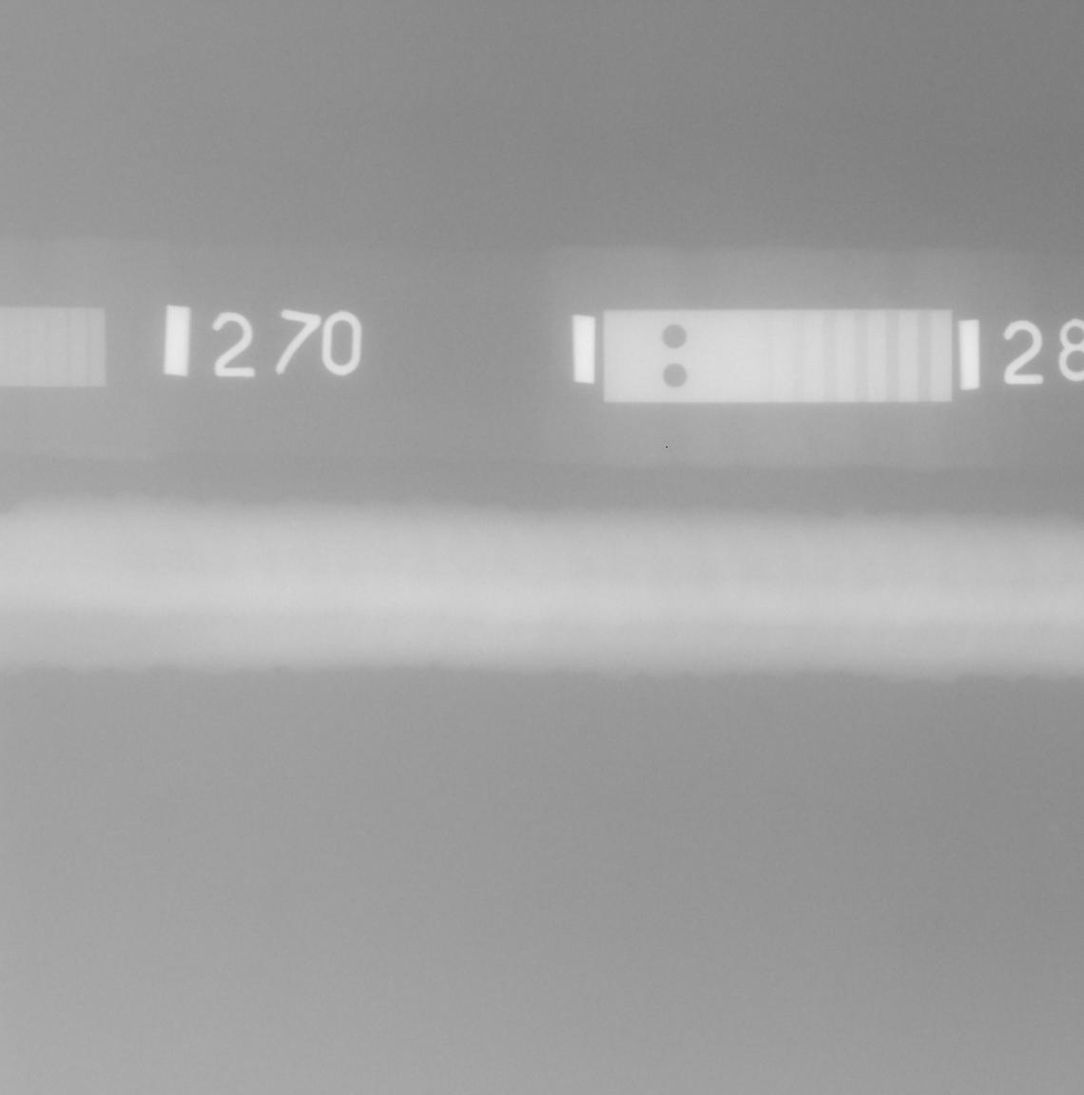Reference Standard 2: (603, 308, 952, 403)
